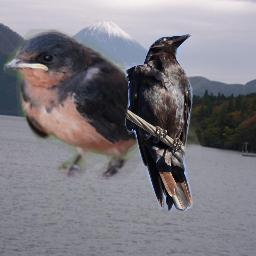Crow: (125, 32, 193, 211)
Swallow: (3, 29, 201, 180)
